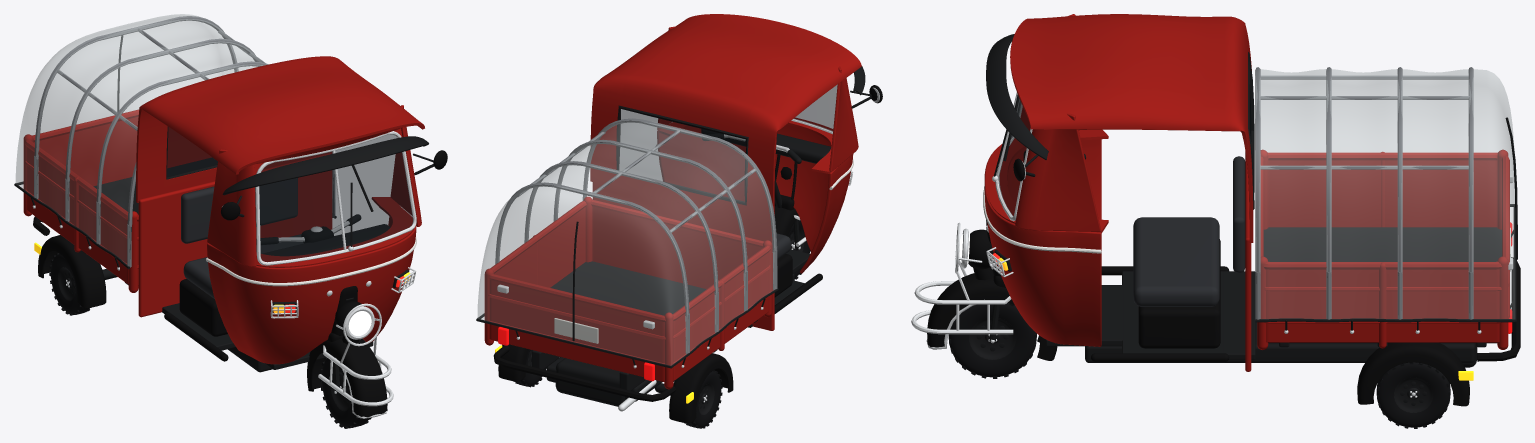
Rendered from tuktuk.glb.
The picture shows the model from 3 angles, left to right: view 1: azimuth 30°, elevation 25°; view 2: azimuth 150°, elevation 25°; view 3: azimuth 270°, elevation 25°; orthographic projection. The views are drawn at different scales.
Visible parts, largest first — view 1: govde, musamba, cam, gidon_govde, teker_ag, teker_ag.002; view 2: govde, musamba, cam, gidon_govde, teker_ag.002, stop; view 3: govde, musamba, gidon_govde, teker_ag, teker_ag.001, cam.
Boxes of the visible parts, x1=… form: govde: x1=23, y1=56, x2=447, y2=372; musamba: x1=14, y1=14, x2=336, y2=270; cam: x1=166, y1=127, x2=413, y2=261; gidon_govde: x1=256, y1=214, x2=393, y2=418; teker_ag: x1=320, y1=354, x2=371, y2=428; teker_ag.002: x1=49, y1=253, x2=89, y2=315; govde: x1=484, y1=14, x2=882, y2=423; musamba: x1=476, y1=118, x2=778, y2=368; cam: x1=619, y1=84, x2=837, y2=201; gidon_govde: x1=702, y1=133, x2=806, y2=250; teker_ag.002: x1=684, y1=370, x2=722, y2=428; stop: x1=498, y1=327, x2=654, y2=381; govde: x1=983, y1=14, x2=1520, y2=406; musamba: x1=1255, y1=67, x2=1517, y2=333; gidon_govde: x1=911, y1=154, x2=1085, y2=360; teker_ag: x1=948, y1=302, x2=1036, y2=378; teker_ag.001: x1=1376, y1=362, x2=1450, y2=428; cam: x1=998, y1=85, x2=1251, y2=215.
Size of the model in its own units: 1.46 by 1.76 by 2.97.
